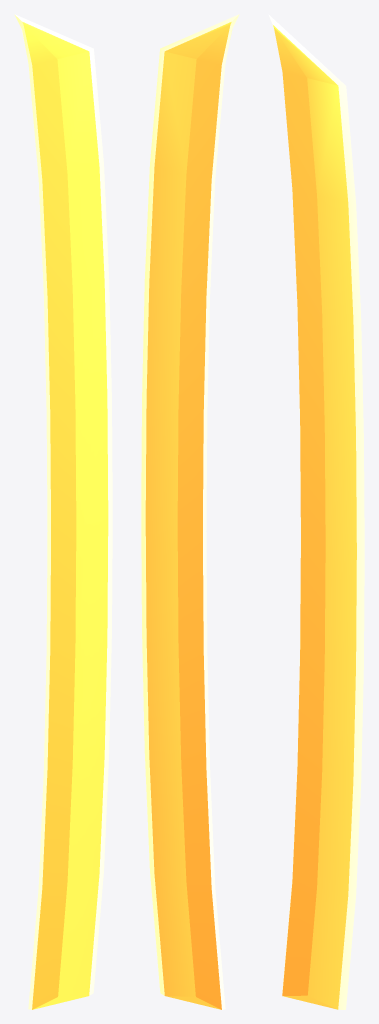
The model's file is gold_blade (17).glb.
3 views of the same model, side by side, from view 1: azimuth 30°, elevation 25°; view 2: azimuth 150°, elevation 25°; view 3: azimuth 330°, elevation 25° (orthographic). The views are drawn at different scales.
Parts seen in each view (by area): view 1: gold_blade_steel.038; view 2: gold_blade_steel.038; view 3: gold_blade_steel.038.
Part boxes in pixels (x1,y1,x2,y2): gold_blade_steel.038: (14,14,112,1009); gold_blade_steel.038: (141,14,239,1009); gold_blade_steel.038: (268,14,364,1009).
Bounding box in the file's own units: 1.22 × 11.77 × 0.0749.
1 material, 1 textured.
